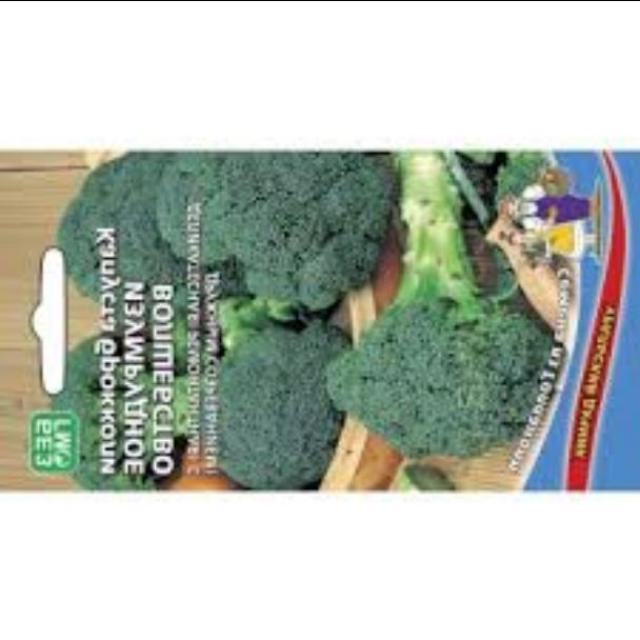Broccoli: (319, 230, 553, 488), (22, 146, 245, 349), (158, 120, 360, 296), (188, 318, 357, 506), (34, 337, 205, 509)
